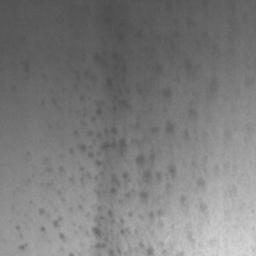Pitted surface: (24, 53, 200, 256), (181, 162, 207, 212), (106, 18, 142, 40), (163, 78, 179, 98), (16, 226, 28, 250), (189, 101, 196, 117), (210, 79, 216, 92), (186, 60, 192, 71)
